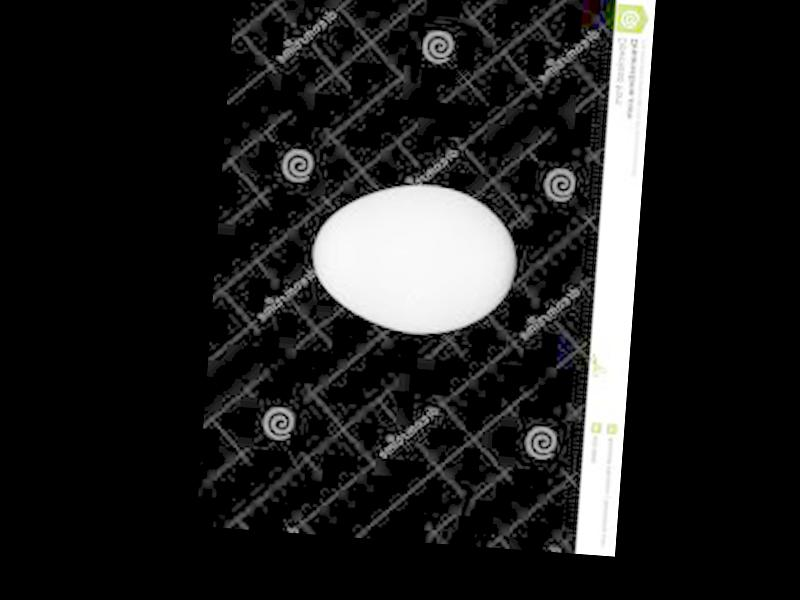Eggs: (309, 179, 519, 343)
